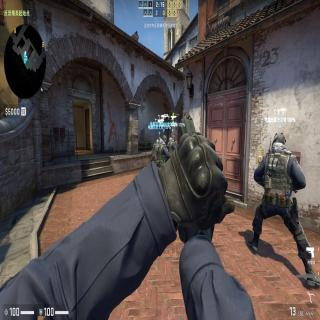CT-Body: (247, 131, 320, 288)
CT-Head: (273, 131, 287, 148), (162, 135, 167, 144), (171, 135, 175, 141), (158, 137, 161, 141)
